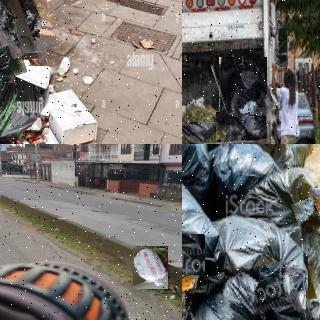Garbage: (208, 213, 308, 304), (216, 215, 307, 296), (182, 266, 312, 320), (0, 66, 49, 144), (215, 54, 271, 119), (182, 170, 216, 261), (0, 0, 52, 56), (299, 183, 320, 303), (0, 0, 21, 87), (133, 246, 168, 289), (214, 111, 243, 142), (182, 122, 217, 143), (242, 112, 266, 140)
